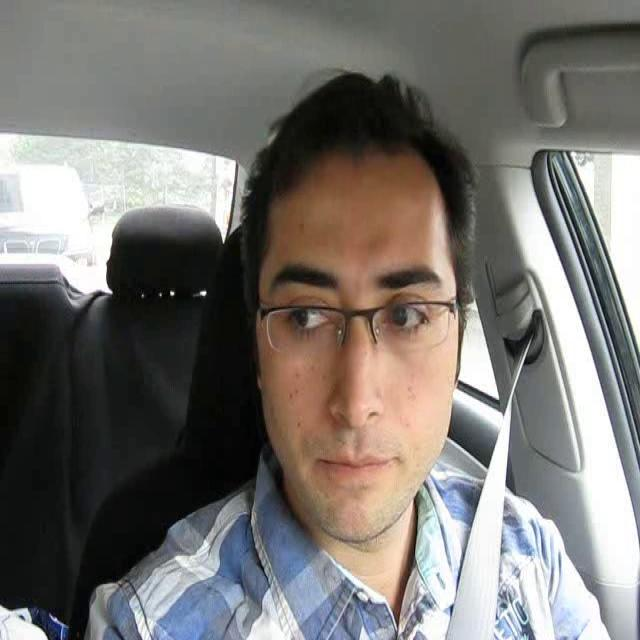close: (306, 440, 406, 486)
